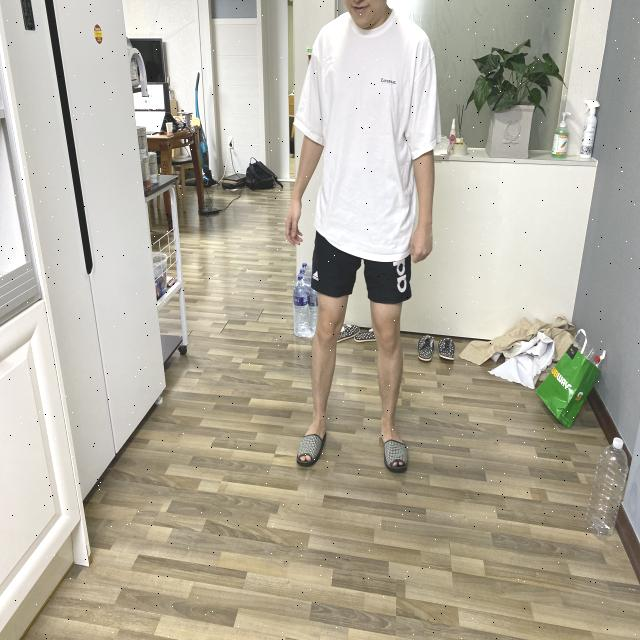no-boots: (288, 414, 342, 480), (373, 416, 423, 486)
